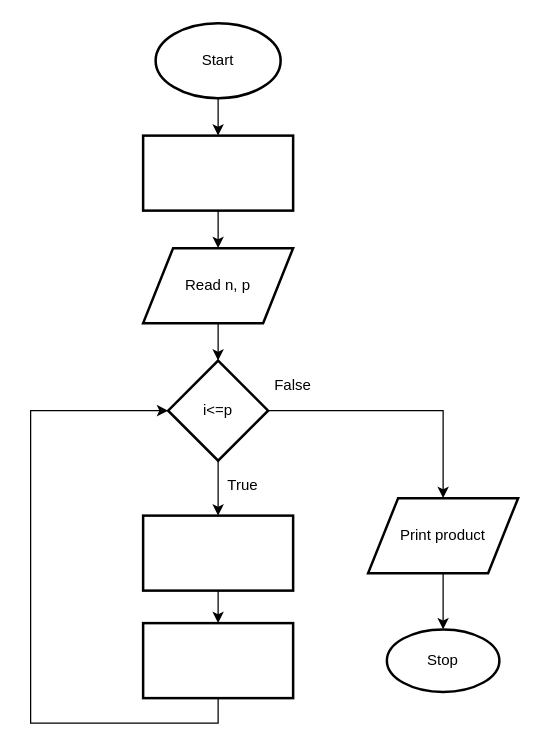
Image size: 541x755. Some labels were removed from this diagram. Each missing label, with the centre of its shape:
"i = 1 product = 1" goes at point (217, 172).
"i = i + 1" goes at point (217, 660).
"product = product * n" goes at point (217, 552).
